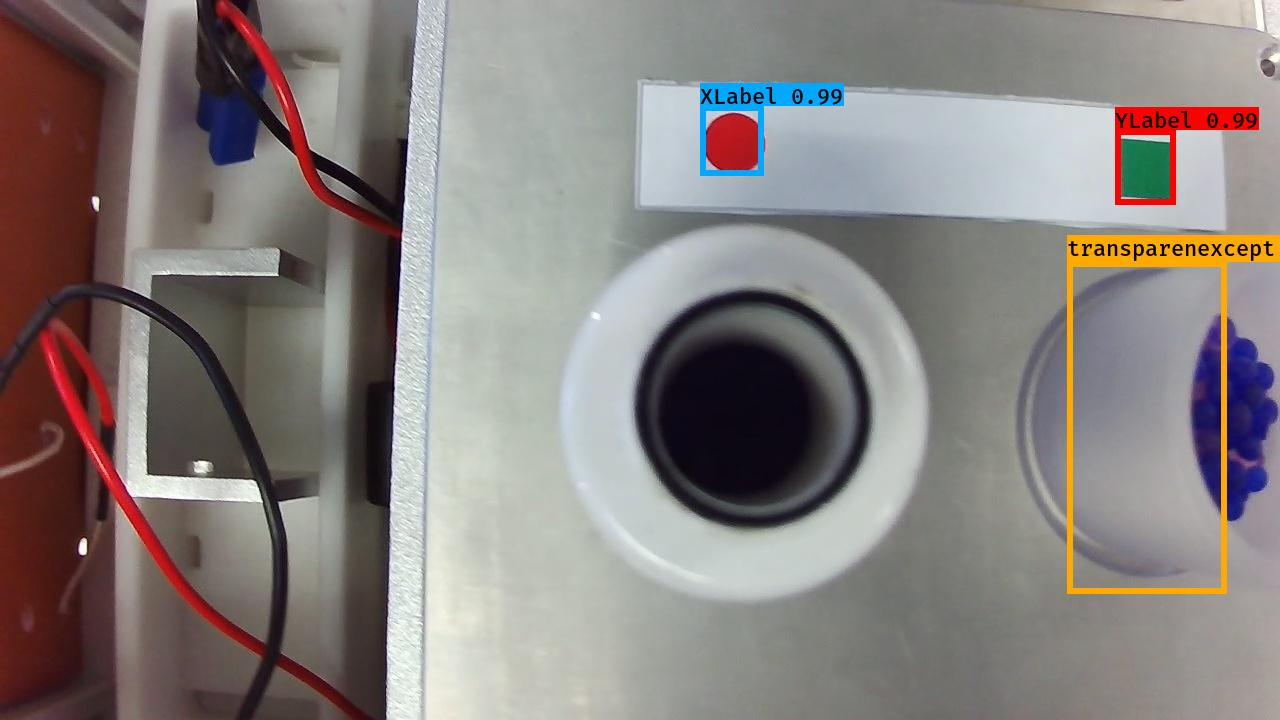XLabel: (700, 107, 767, 176)
YLabel: (1113, 132, 1181, 204)
transparenexcept: (1013, 232, 1280, 582)
whiteexcept: (557, 218, 931, 607)
